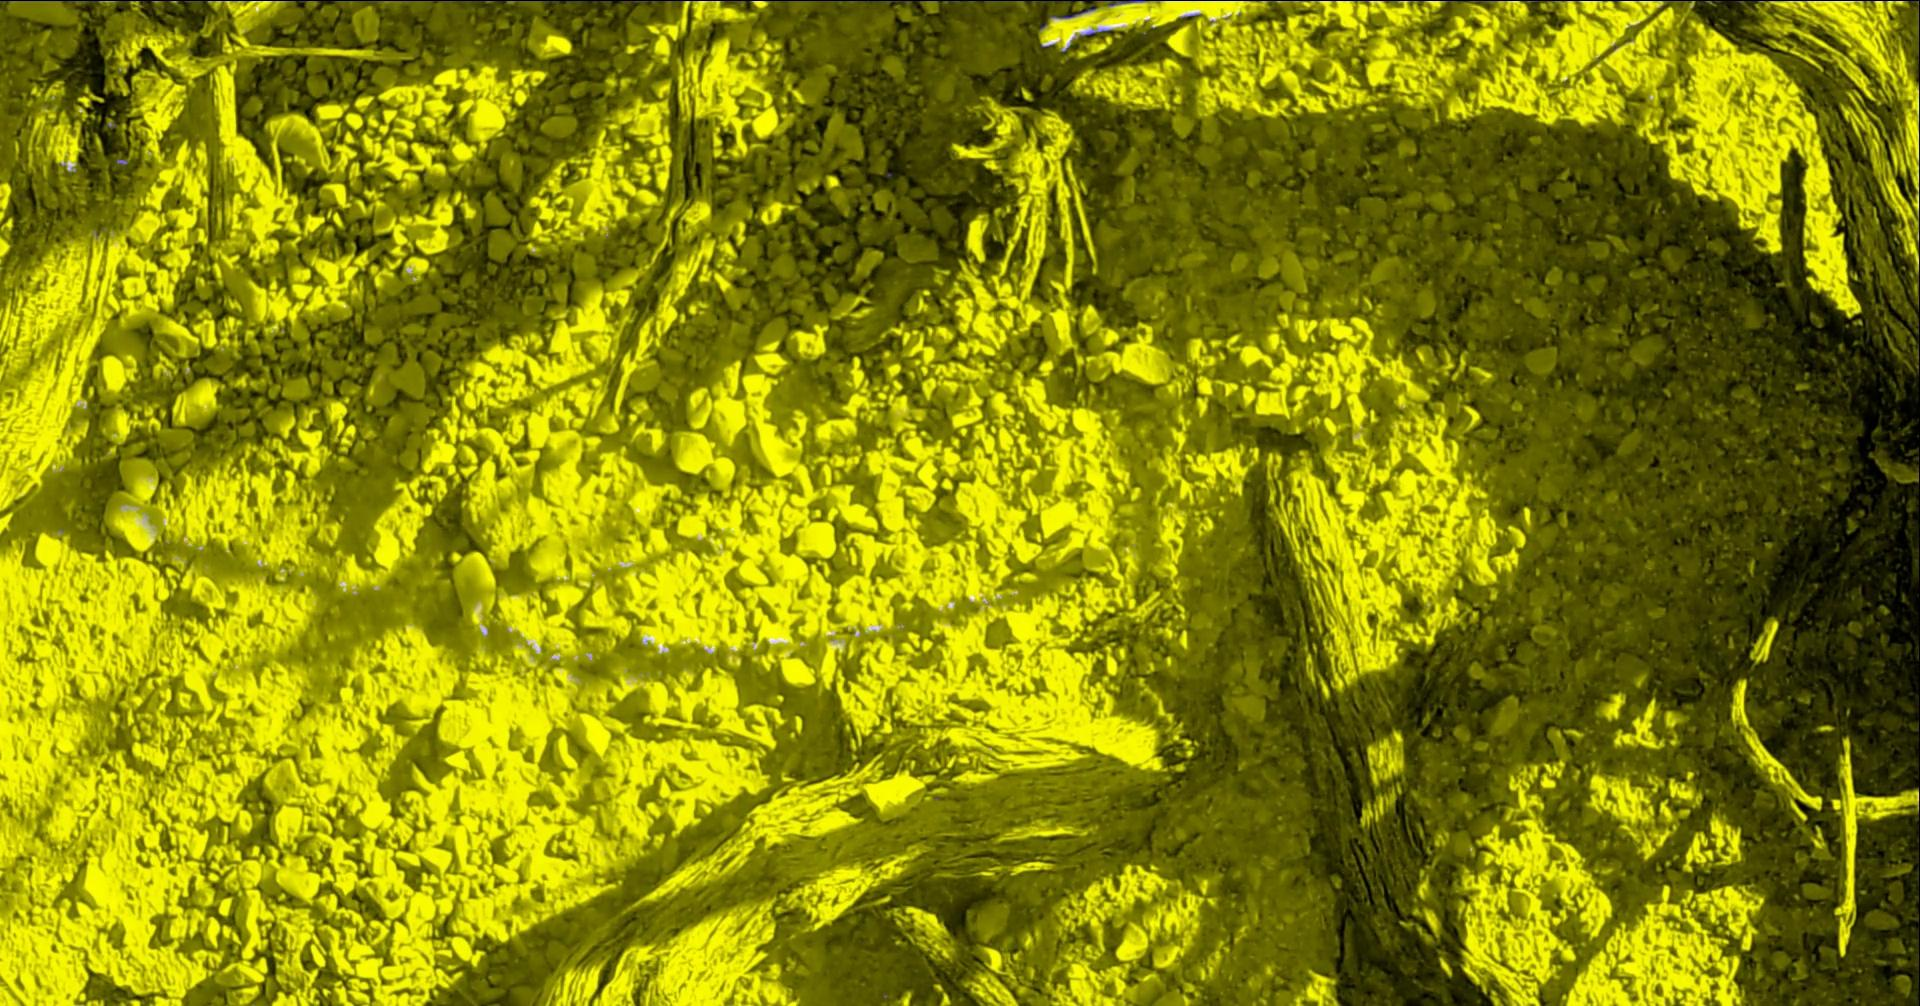ant: (1909, 0, 1920, 55), (1106, 0, 1145, 5), (770, 0, 913, 1), (408, 0, 499, 1), (623, 0, 684, 1)
